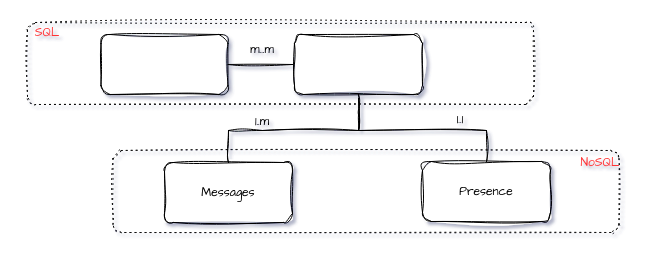
Image size: 653x256. Some labels were removed from this diagram. Each missing label, with the box of its shape:
Groups: (100, 34, 228, 94)
Users: (294, 34, 422, 94)
